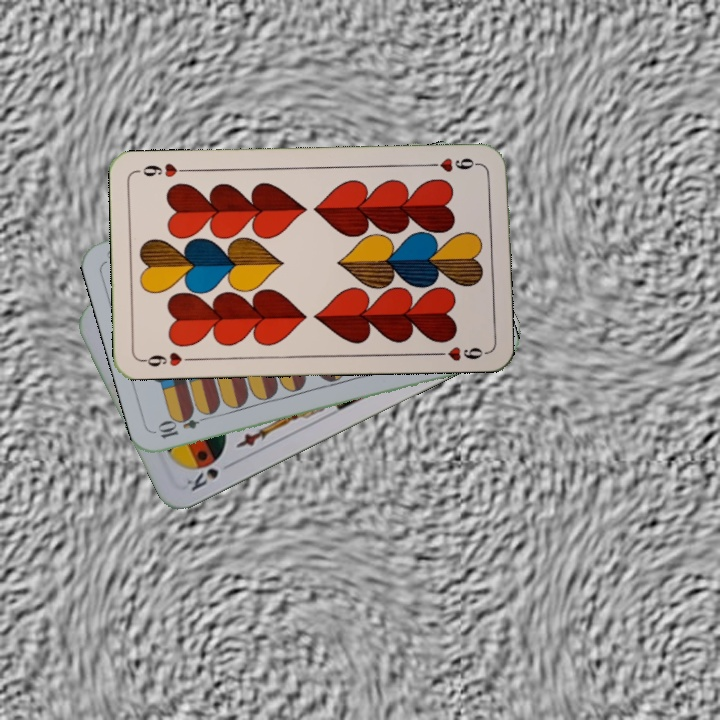E10: (154, 410, 212, 441)
H9: (138, 348, 197, 369), (424, 154, 483, 175)
SK: (182, 458, 237, 494)
